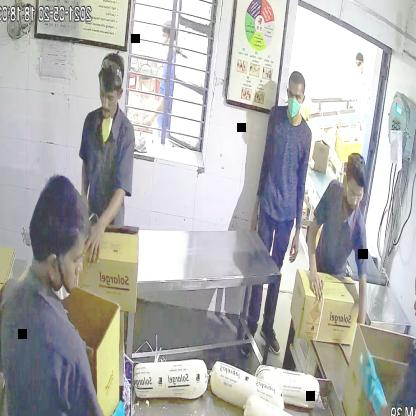goggles: (340, 176, 368, 201)
no_goggles: (279, 83, 311, 108), (96, 84, 126, 104)
